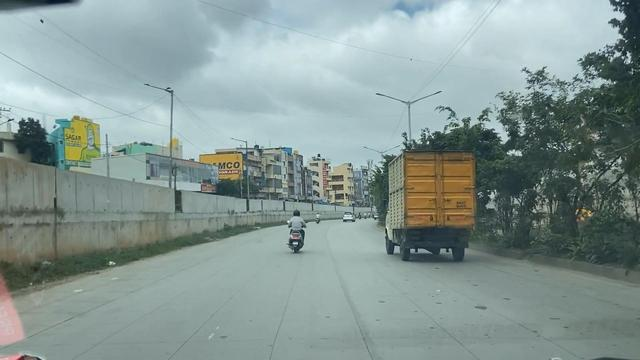HMV: (377, 148, 483, 273)
